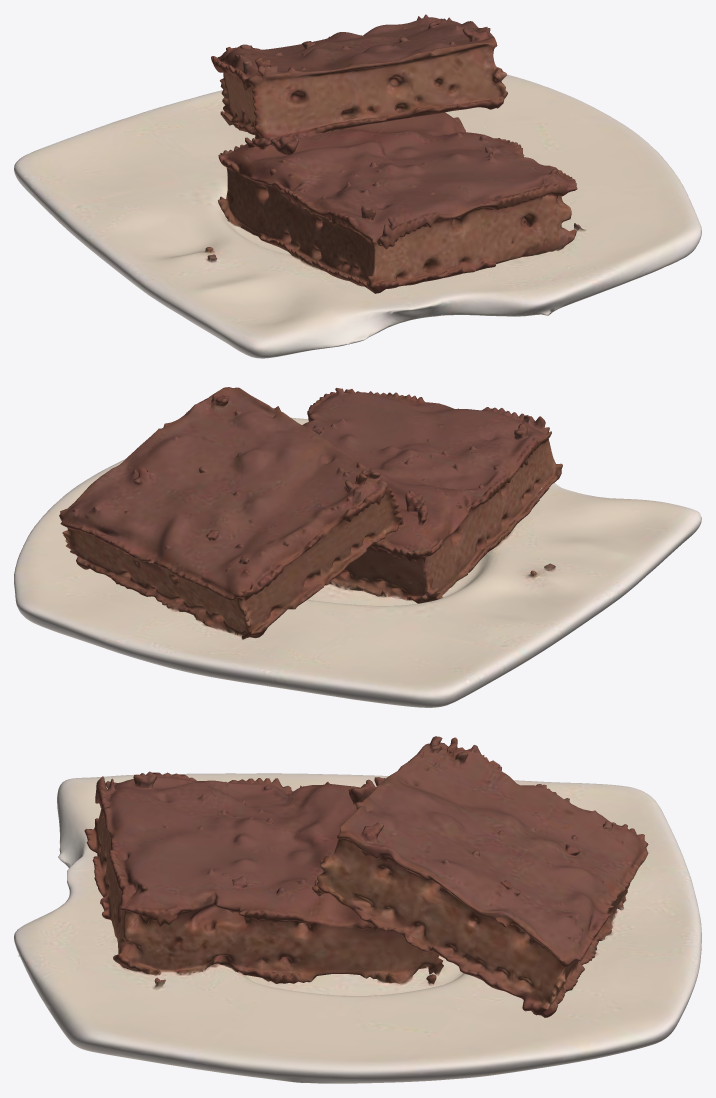
File: torta-chocolate.glb
3 renders of one model, top to bottom at view 1: azimuth 30°, elevation 25°; view 2: azimuth 150°, elevation 25°; view 3: azimuth 270°, elevation 25°, orthographic. The views are drawn at different scales.
Parts seen in each view (by area): view 1: tripo_node_261599c9-b6e3-4b8d-be1f-a647161b08d5; view 2: tripo_node_261599c9-b6e3-4b8d-be1f-a647161b08d5; view 3: tripo_node_261599c9-b6e3-4b8d-be1f-a647161b08d5.
Part boxes in pixels (x1,y1,x2,y2): tripo_node_261599c9-b6e3-4b8d-be1f-a647161b08d5: (14, 14, 701, 358); tripo_node_261599c9-b6e3-4b8d-be1f-a647161b08d5: (14, 387, 701, 707); tripo_node_261599c9-b6e3-4b8d-be1f-a647161b08d5: (14, 736, 701, 1083).
Size of the model in its own units: 0.98 by 0.2895 by 0.9668.
Materials: 1 (1 with a texture image).
